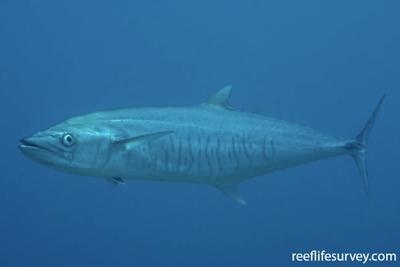Scombridae -Tunas-: (14, 78, 389, 208)
